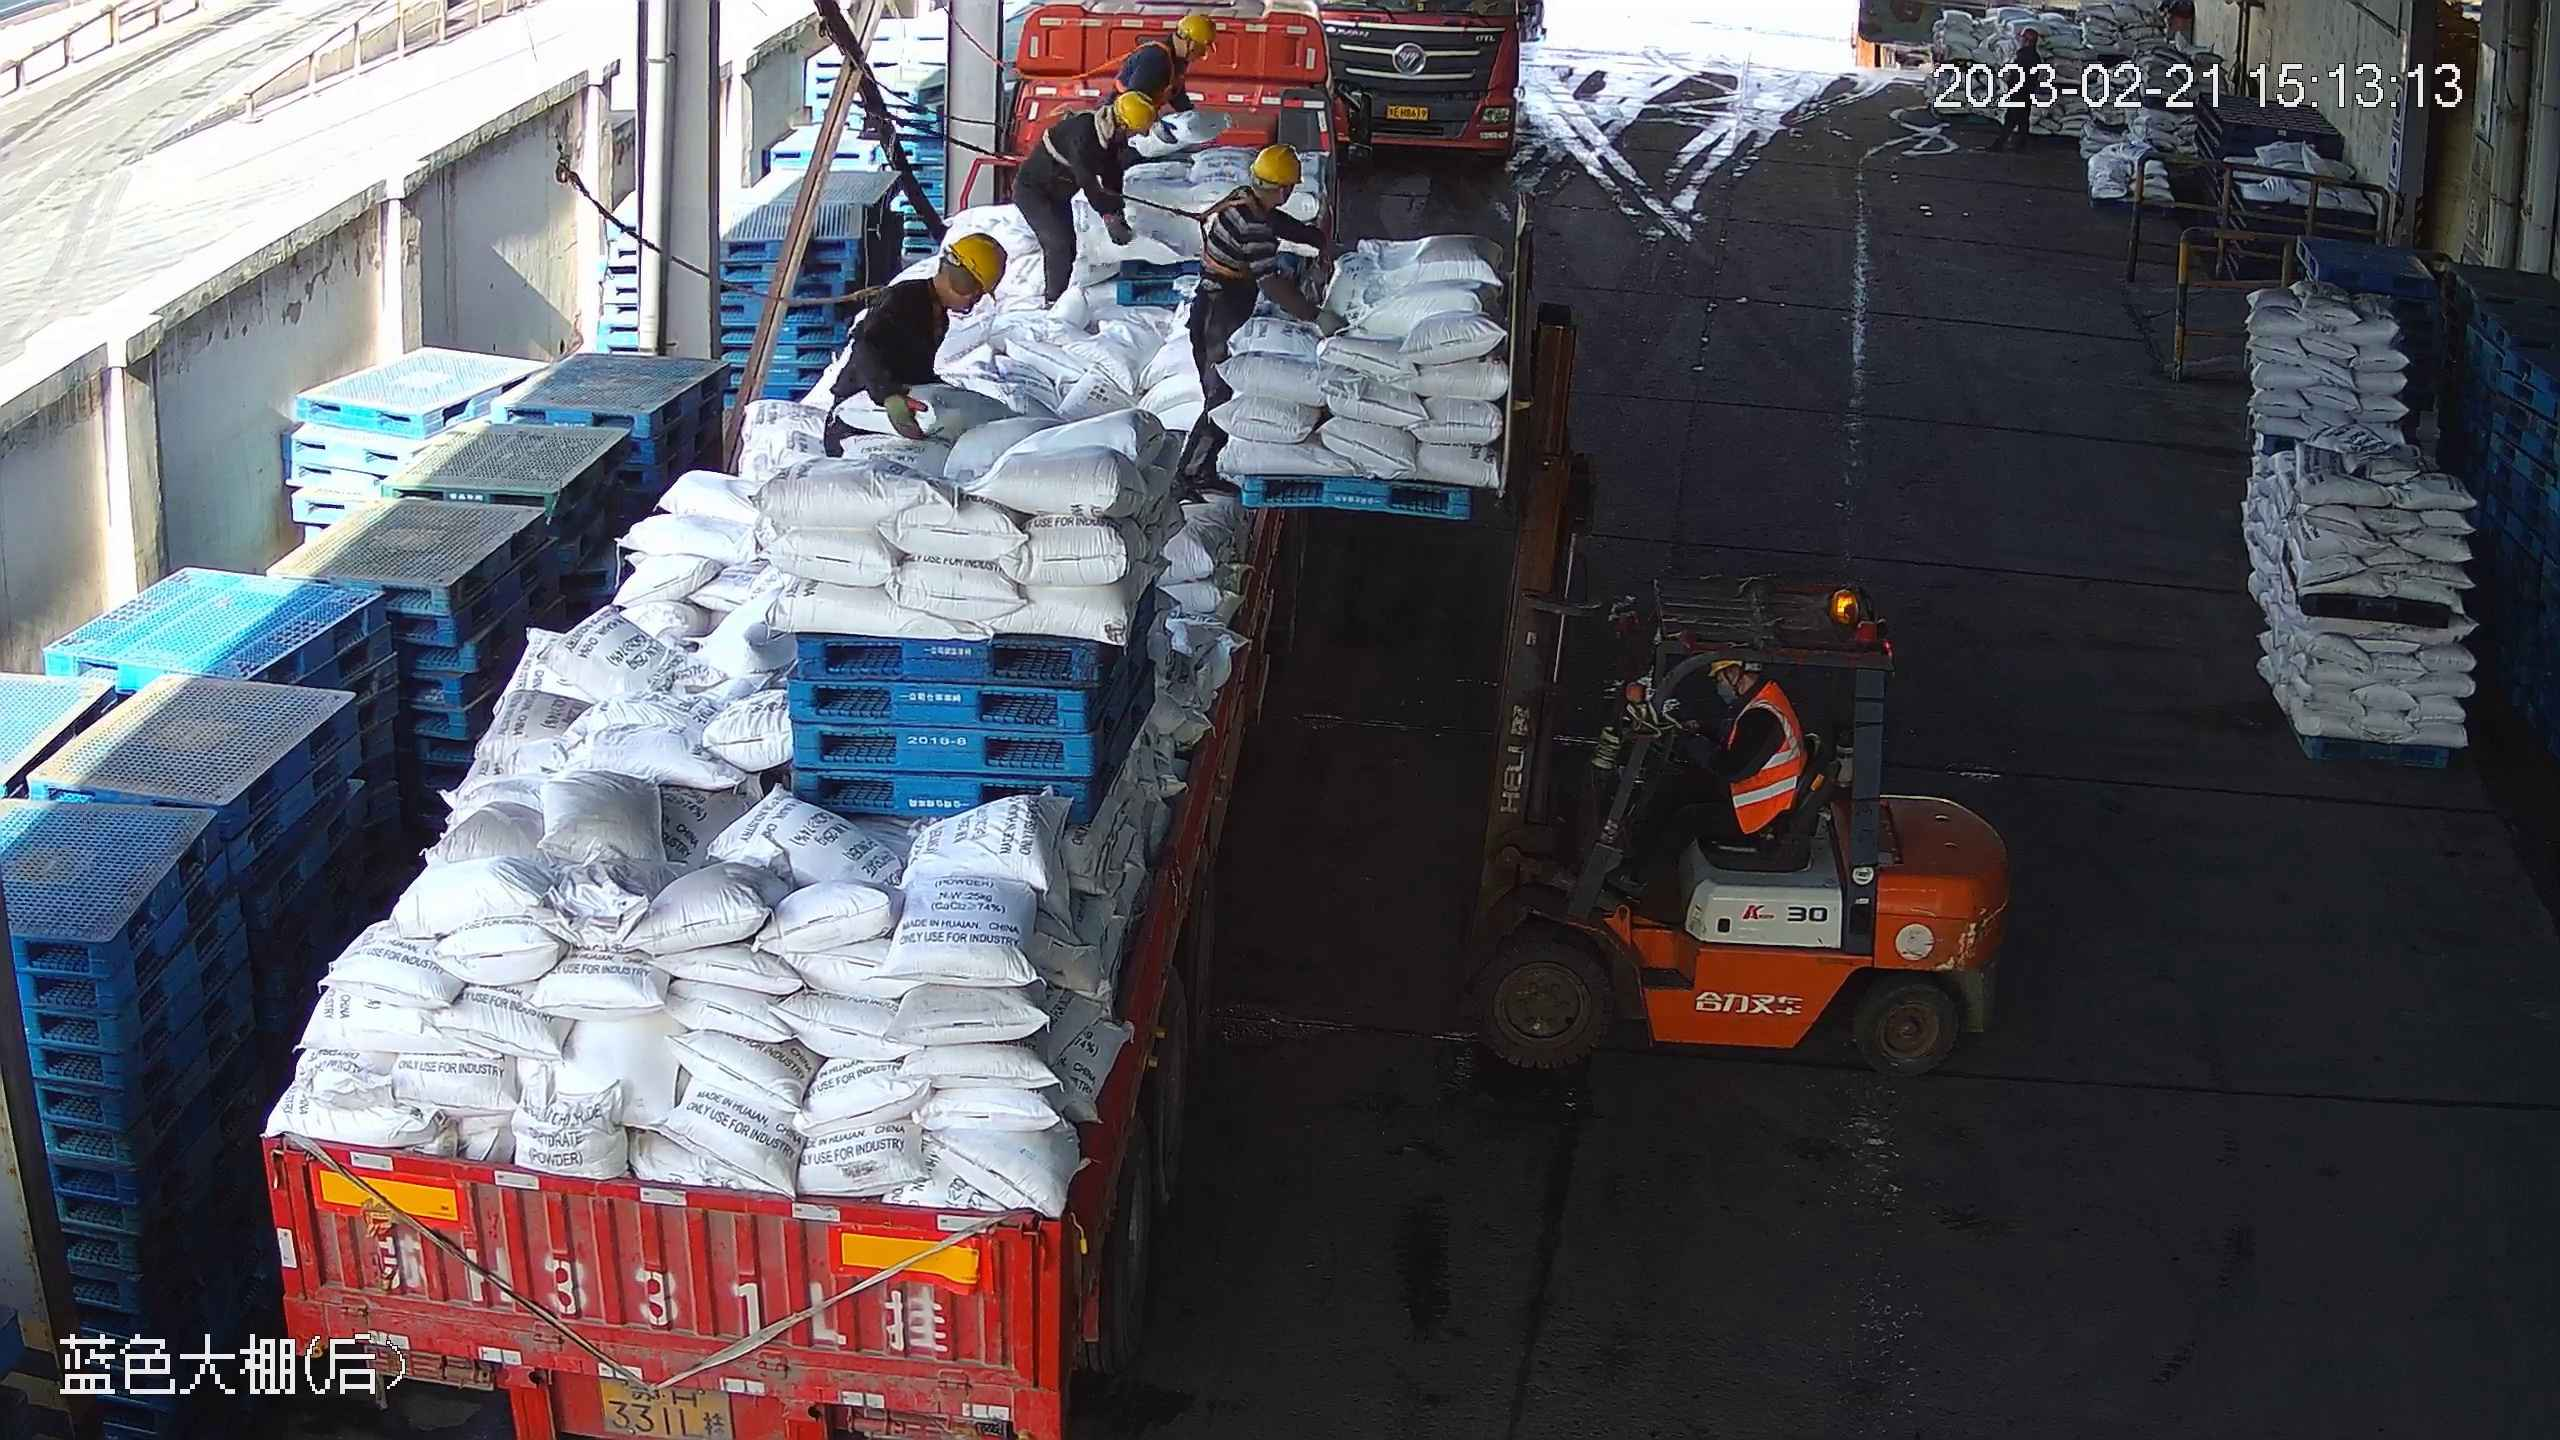belt: (1192, 186, 1259, 282), (1113, 41, 1185, 107), (1039, 108, 1097, 168)
head: (875, 233, 1007, 328), (1212, 144, 1301, 250), (1133, 12, 1217, 82), (1068, 90, 1152, 157)
helmet: (948, 232, 1007, 302), (1250, 143, 1302, 185), (1116, 91, 1155, 130), (1177, 13, 1216, 44)
people: (1169, 144, 1355, 499), (1606, 659, 1810, 901), (821, 231, 1008, 459), (1012, 86, 1160, 308)
truck: (256, 1, 1371, 1440), (1311, 1, 1519, 155)
